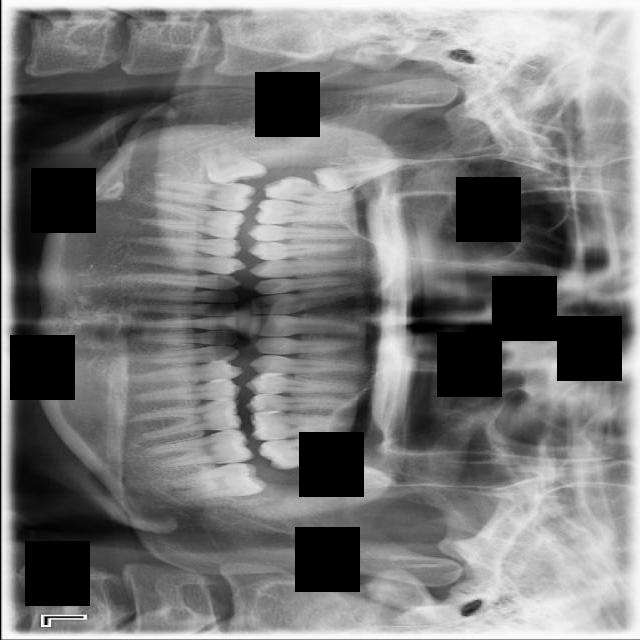3M ESPE Implant: (310, 158, 408, 194)
52: (218, 461, 250, 479), (257, 404, 279, 415), (212, 183, 233, 190)
73: (22, 625, 28, 631)
BioHorizons Implant: (256, 431, 368, 472)
BioLife Implant: (306, 452, 403, 488)
Biomet 3i Implant: (164, 458, 268, 506)
Blue Sky Bio Implant: (143, 426, 255, 472)
Caries: (261, 173, 362, 210)
Implant: (153, 179, 256, 212)
Keystone Dental Implant: (187, 130, 270, 205)
